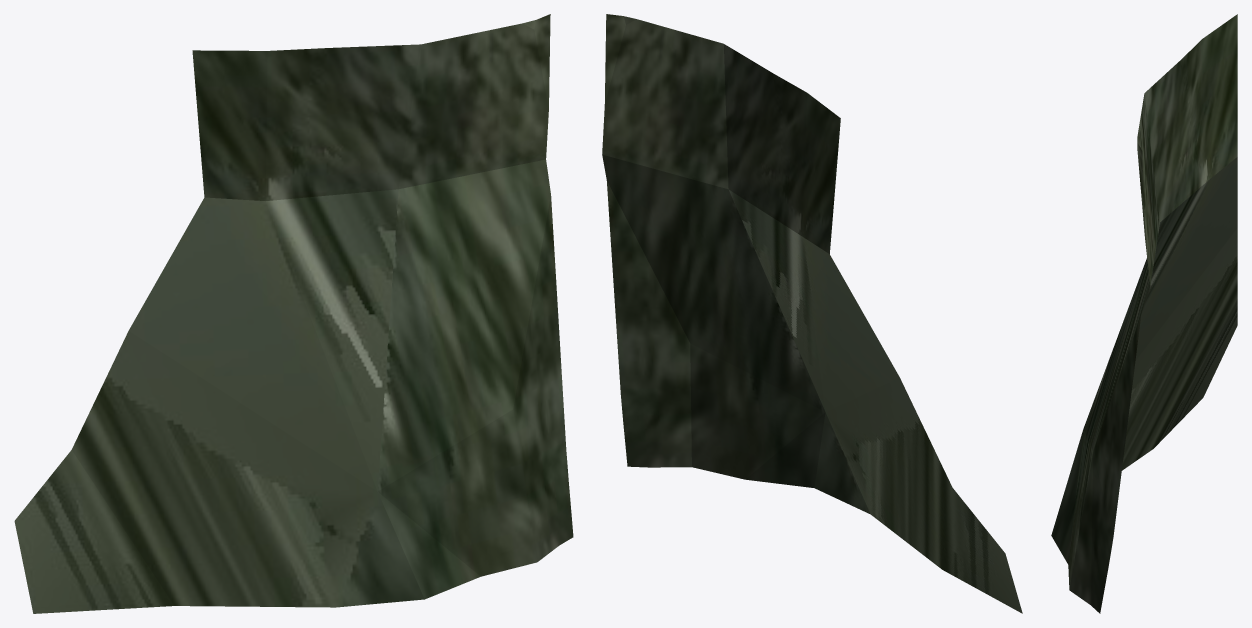
3 renders of one model, left to right at view 1: azimuth 30°, elevation 25°; view 2: azimuth 150°, elevation 25°; view 3: azimuth 270°, elevation 25°, orthographic. The views are drawn at different scales.
Bounding box in the file's own units: 2.95 × 2.95 × 1.08.
Materials: 2 (2 with a texture image).
